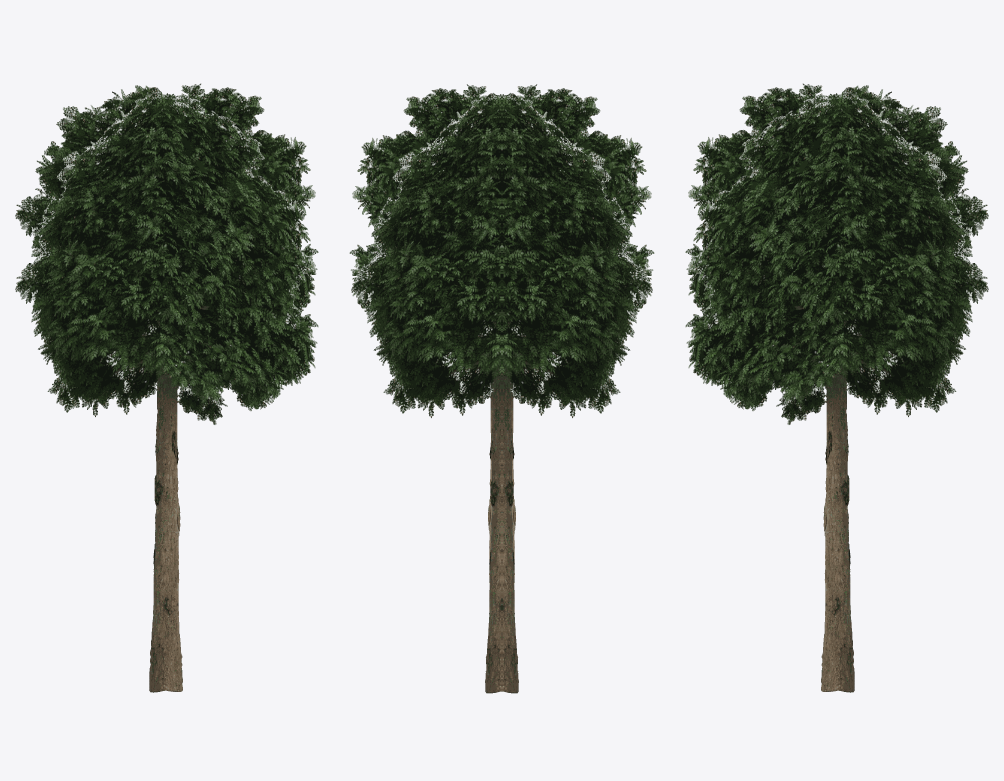
The model's file is arbre-neem.glb.
3 views of the same model, side by side, from view 1: azimuth 30°, elevation 25°; view 2: azimuth 150°, elevation 25°; view 3: azimuth 270°, elevation 25° (orthographic).
Parts seen in each view (by area): view 1: arbre-neem; view 2: arbre-neem; view 3: arbre-neem.
Boxes of the visible parts, x1,y1,x2,y2 form: arbre-neem: [15, 83, 318, 692]; arbre-neem: [349, 84, 654, 693]; arbre-neem: [685, 83, 988, 692].
Size of the model in its own units: 4.26 by 8.03 by 3.69.
1 material, 1 textured.
